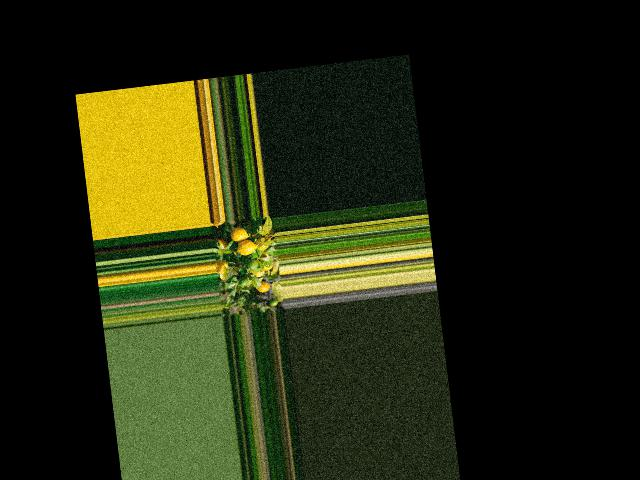lemon: (252, 280, 271, 296)
